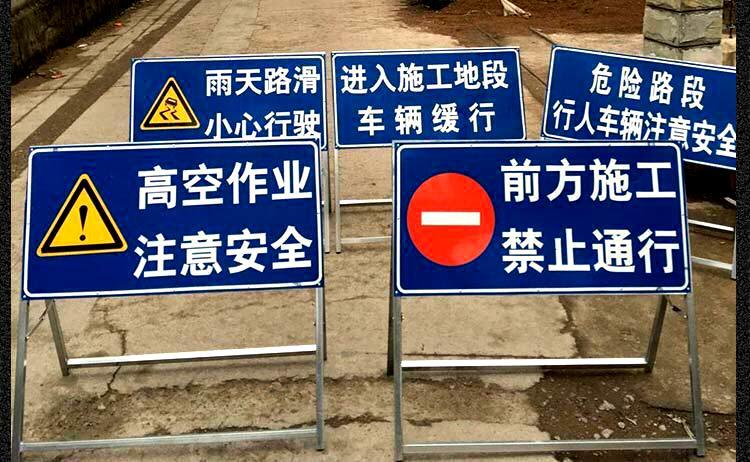sign: (395, 143, 689, 294), (27, 143, 320, 293), (549, 53, 730, 151), (131, 56, 325, 141), (334, 51, 524, 137)
